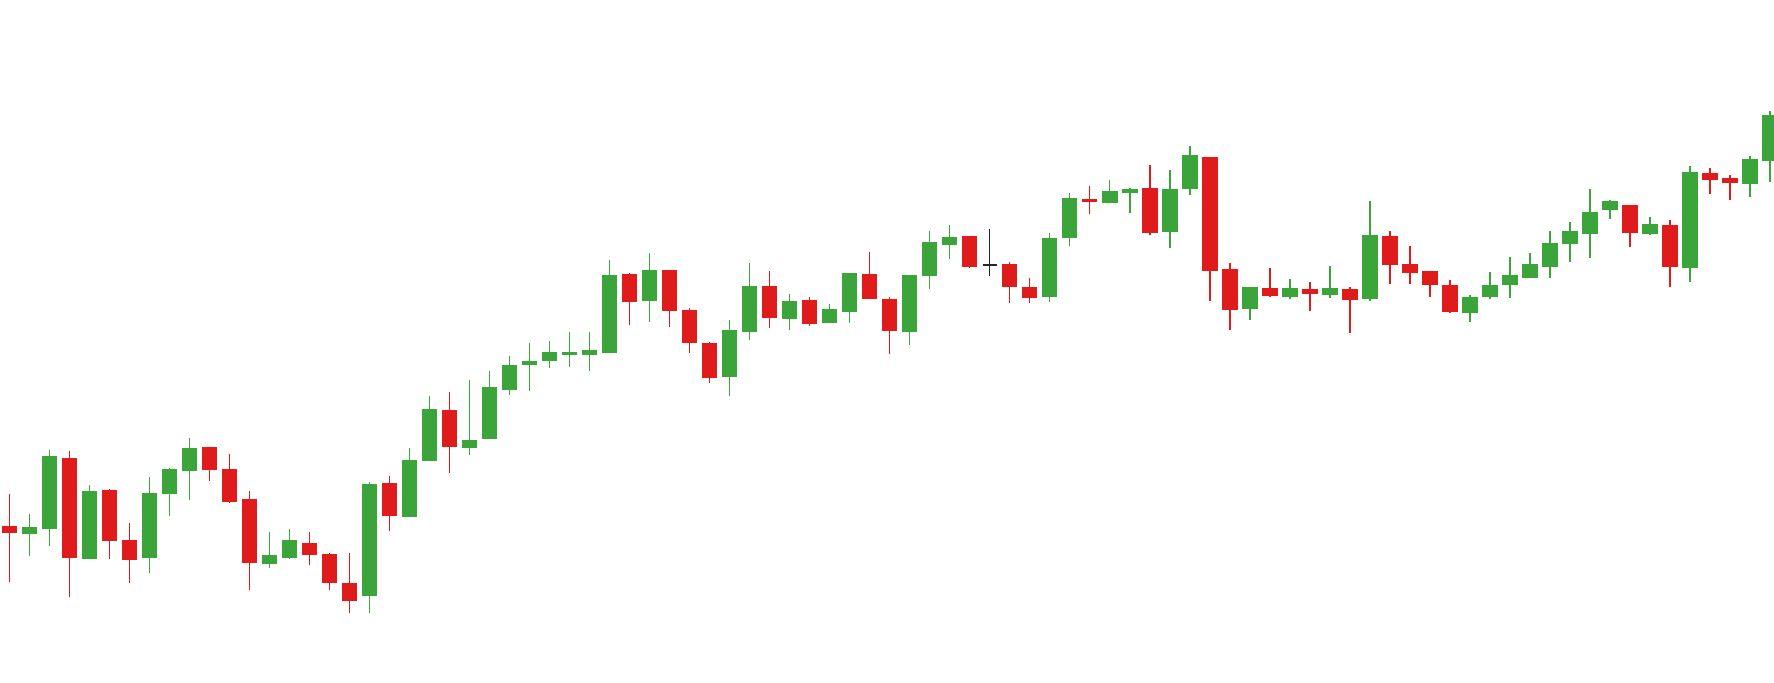buy: (780, 280, 915, 356)
